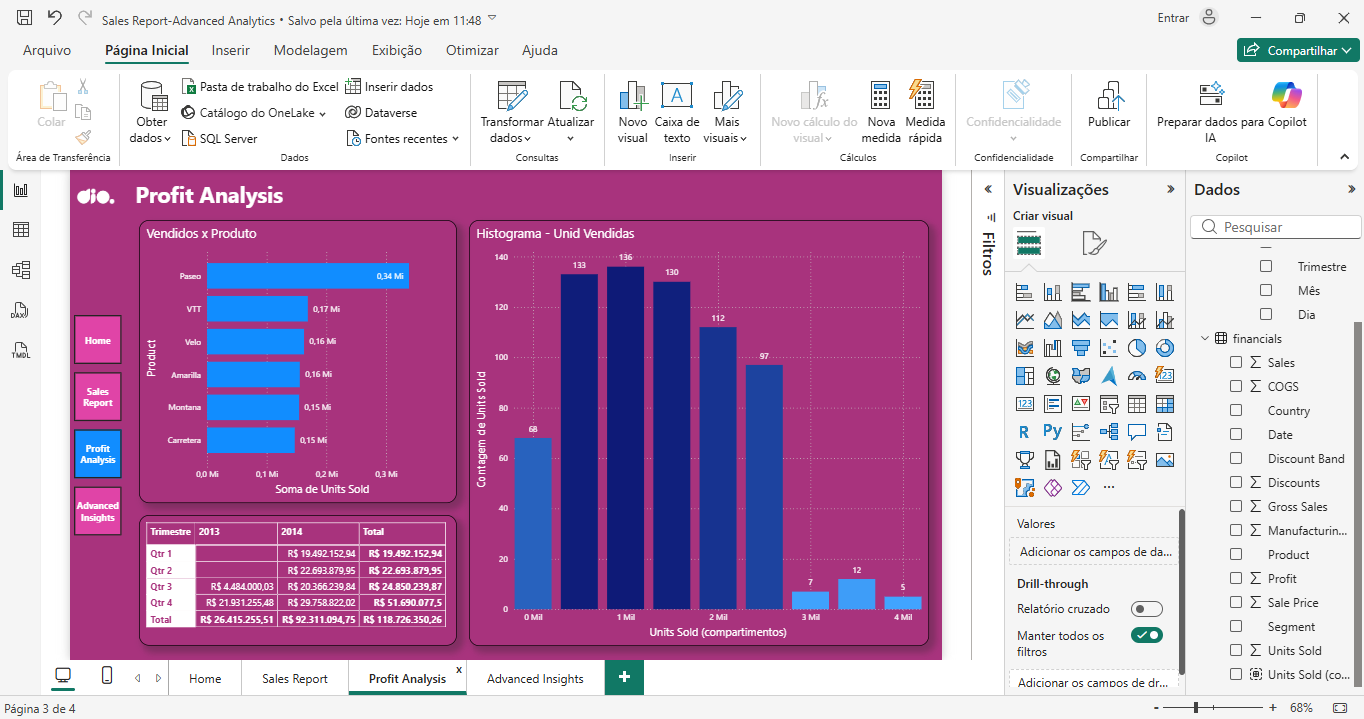

The page's visual inventory and layout, read from the dashboard file:
{"tool":"powerbi","page":{"name":"Profit Analysis","canvas":[1280,720],"ordinal":2},"visuals":[{"type":"textbox","box":[91.1,8.8,238,57.3],"z":0},{"type":"image","box":[1.5,0,73.2,77.7],"z":1000},{"type":"pageNavigator","box":[5.9,213.1,70.5,327.7],"z":2000},{"type":"clusteredColumnChart","title":"Histograma - Unid Vendidas","fields":{"Category":["financials.Units Sold (compartimentos)"],"Y":["CountNonNull(financials.Units Sold)"]},"box":[586.3,73.5,675.9,626],"z":3000},{"type":"clusteredBarChart","title":"Vendidos x Produto","fields":{"Category":["financials.Product"],"Y":["Sum(financials.Units Sold)"]},"box":[101.4,73.5,467.3,415.8],"z":4000},{"type":"pivotTable","fields":{"Rows":["dCalendario.Date.Variation.Hierarquia de datas.Trimestre"],"Columns":["dCalendario.Date.Variation.Hierarquia de datas.Ano"],"Values":["Sum(financials. Sales)"]},"box":[101.4,506.9,467.3,192.5],"z":5000}]}

Visuals, with their boxes on the page's 1280x720 design canvas (x1, y1, x2, y2). These are canvas units, not pixel positions in the 1364x719 screenshot, which may show the page scaled, cropped or inside an application window:
textbox: box=[91, 9, 329, 66]
image: box=[2, 0, 75, 78]
pageNavigator: box=[6, 213, 76, 541]
"Histograma - Unid Vendidas" clusteredColumnChart: box=[586, 74, 1262, 700]
"Vendidos x Produto" clusteredBarChart: box=[101, 74, 569, 489]
pivotTable - dCalendario.Date.Variation.Hierarquia de datas.Trimestre x dCalendario.Date.Variation.Hierarquia de datas.Ano: box=[101, 507, 569, 699]
